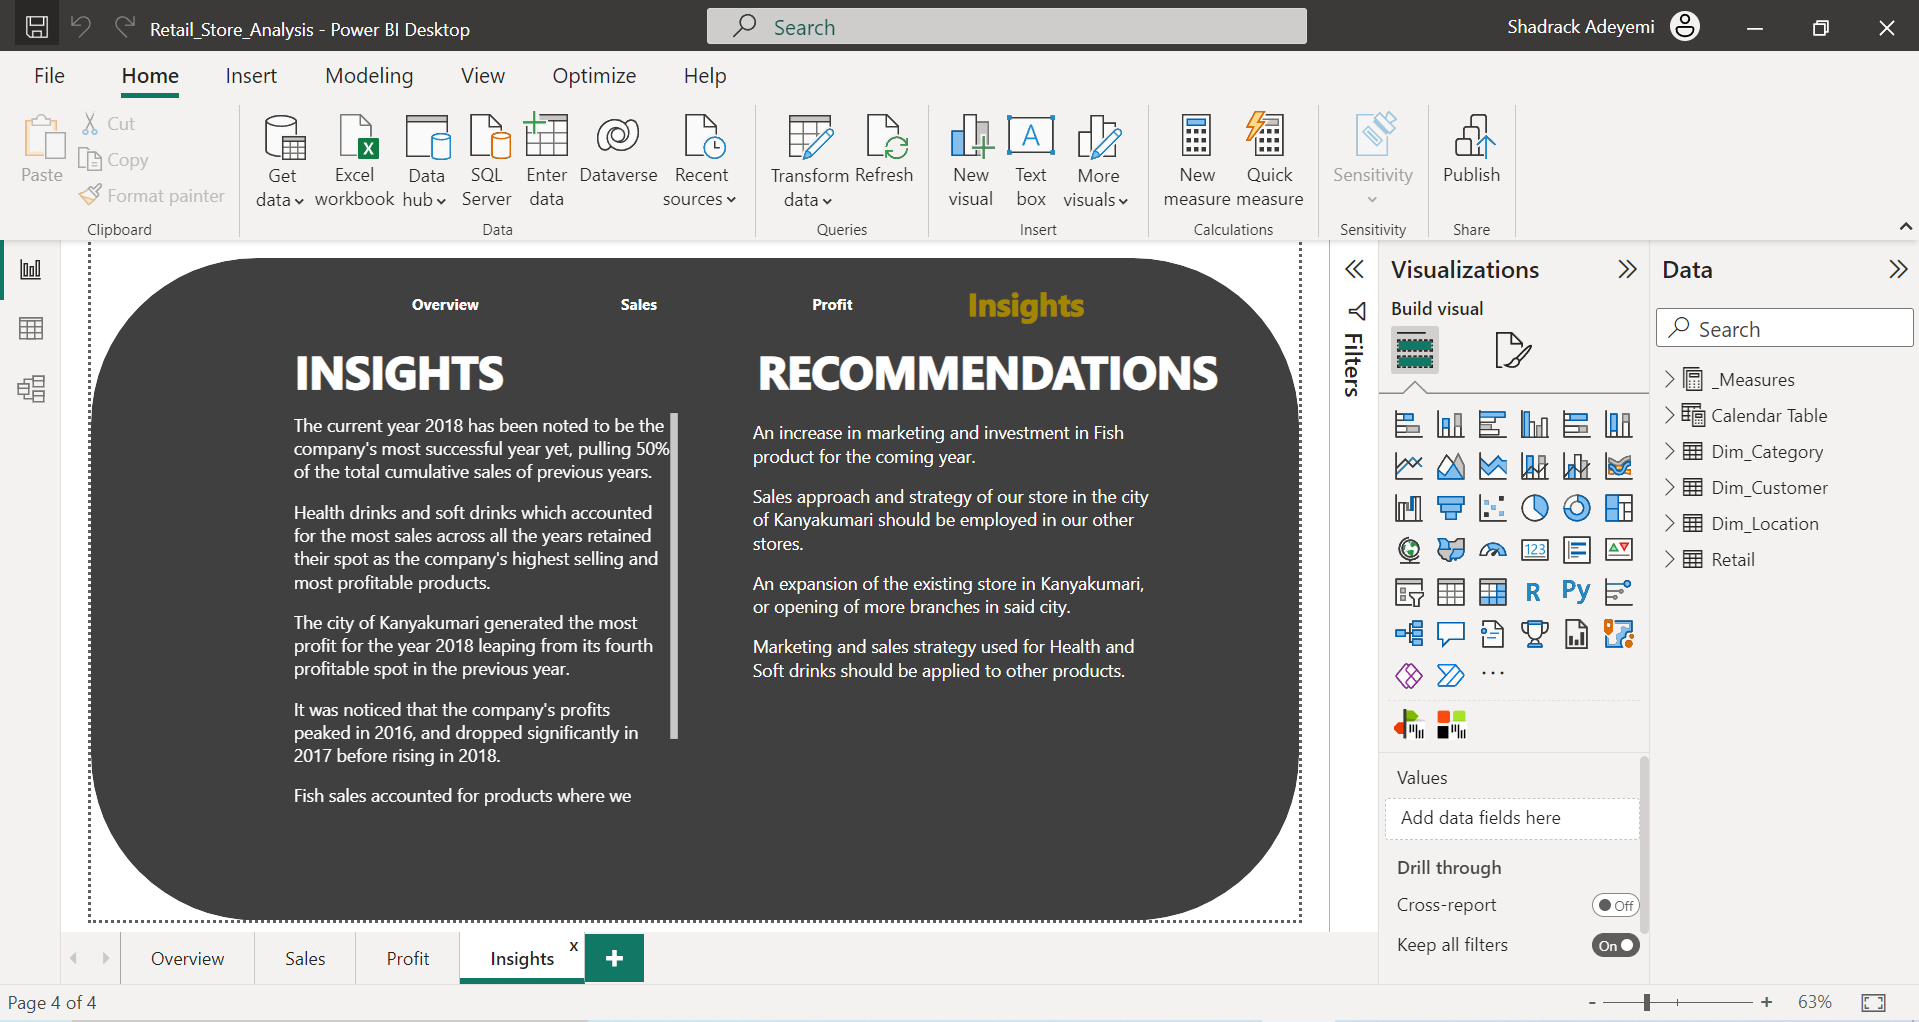

What the dashboard file says about the page in this screenshot:
{"tool":"powerbi","page":{"name":"Insights","canvas":[1280,720],"ordinal":3},"visuals":[{"type":"shape","box":[0,18.3,1280,701.7],"z":0},{"type":"textbox","box":[0,100,653.3,78.3],"z":1000},{"type":"textbox","box":[210,178.3,416.7,426.7],"z":2000},{"type":"textbox","box":[696.2,186.2,442.5,418.8],"z":3000},{"type":"pageNavigator","box":[278.8,18.8,810,96.2],"z":4000},{"type":"textbox","box":[696.7,100,508.3,78.3],"z":5000}]}

Visuals, with their boxes on the page's 1280x720 design canvas (x1, y1, x2, y2). These are canvas units, not pixel positions in the 1919x1022 screenshot, which may show the page scaled, cropped or inside an application window:
shape: locate(0, 18, 1280, 720)
textbox: locate(0, 100, 653, 178)
textbox: locate(210, 178, 627, 605)
textbox: locate(696, 186, 1139, 605)
pageNavigator: locate(279, 19, 1089, 115)
textbox: locate(697, 100, 1205, 178)
